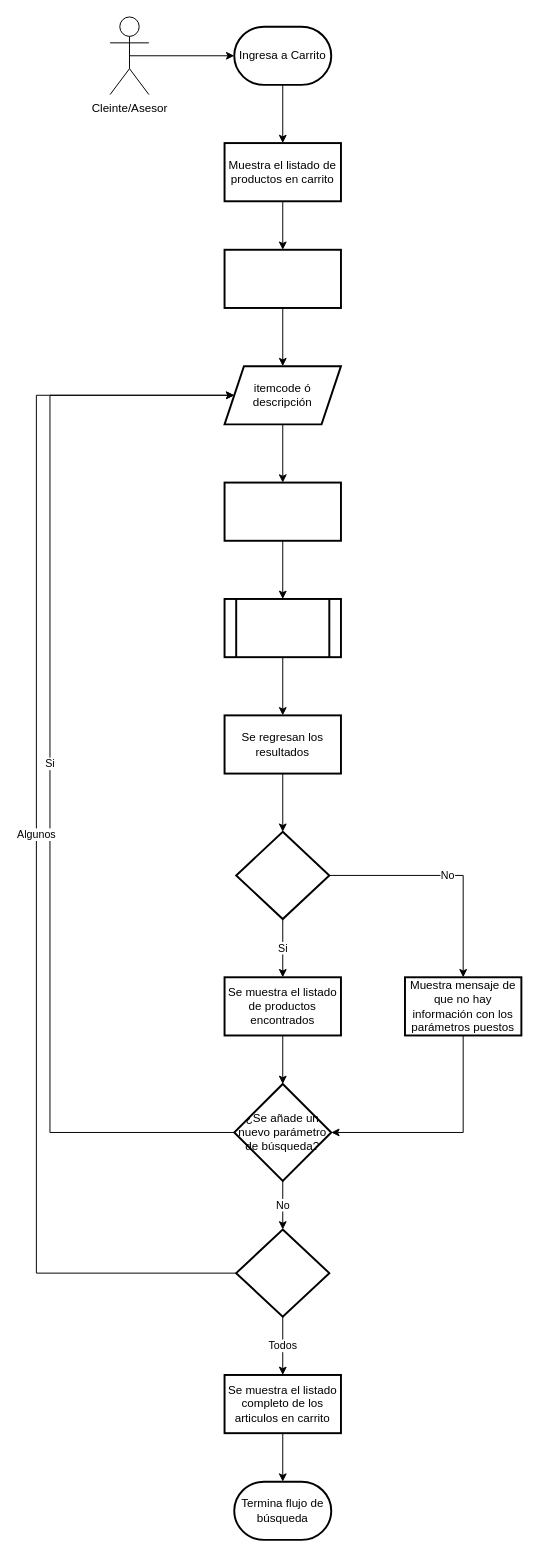
Image size: 538x1558. Some labels were removed from this diagram. Each missing label, with the centre of its shape:
"Ingresa los parámetros de búsqueda" goes at (282,278).
"Se envían los parámetros para realizar la búsqueda" goes at (282,511).
"Se realiza la búsqueda en los productos del carrito" goes at (282,628).
"¿Se borran todos o algunos de los parámetros?" goes at (282,1272).
"¿Se encontró algún resultado?" goes at (282,875).
